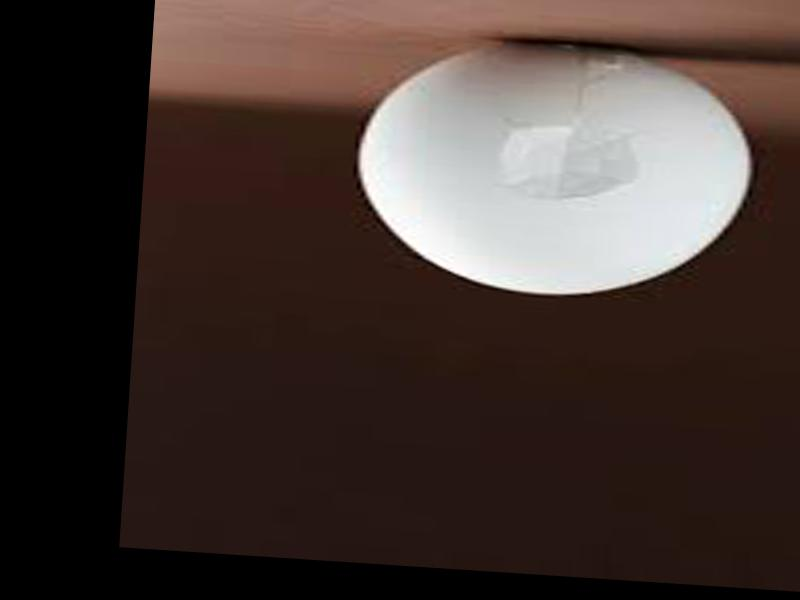Eggs: (351, 29, 752, 307)
